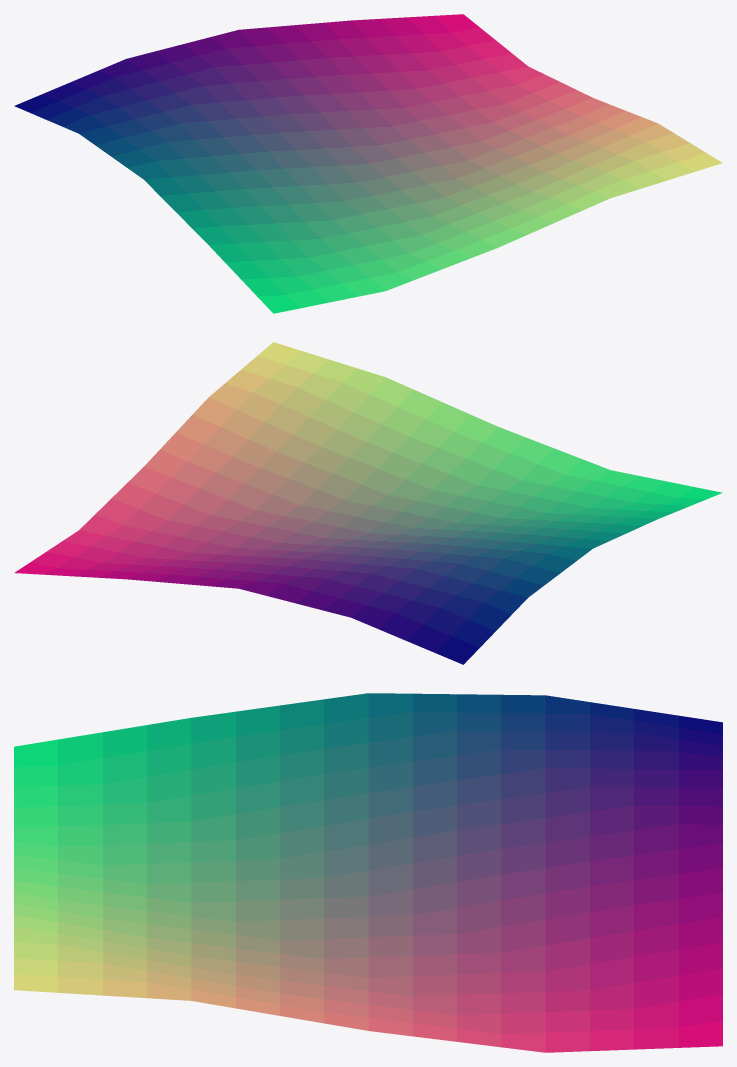
Rendered from tile-plain.glb.
3 views of the same model, one above another, from view 1: azimuth 30°, elevation 25°; view 2: azimuth 150°, elevation 25°; view 3: azimuth 270°, elevation 25° (orthographic). The views are drawn at different scales.
Parts seen in each view (by area): view 1: terrain; view 2: terrain; view 3: terrain.
Boxes of the visible parts, left/top/right/bottom form: terrain: left=14, top=14, right=722, bottom=313; terrain: left=14, top=342, right=722, bottom=664; terrain: left=14, top=693, right=722, bottom=1052.
Size of the model in its own units: 40 by 3.9 by 40.
1 material, 1 textured.
